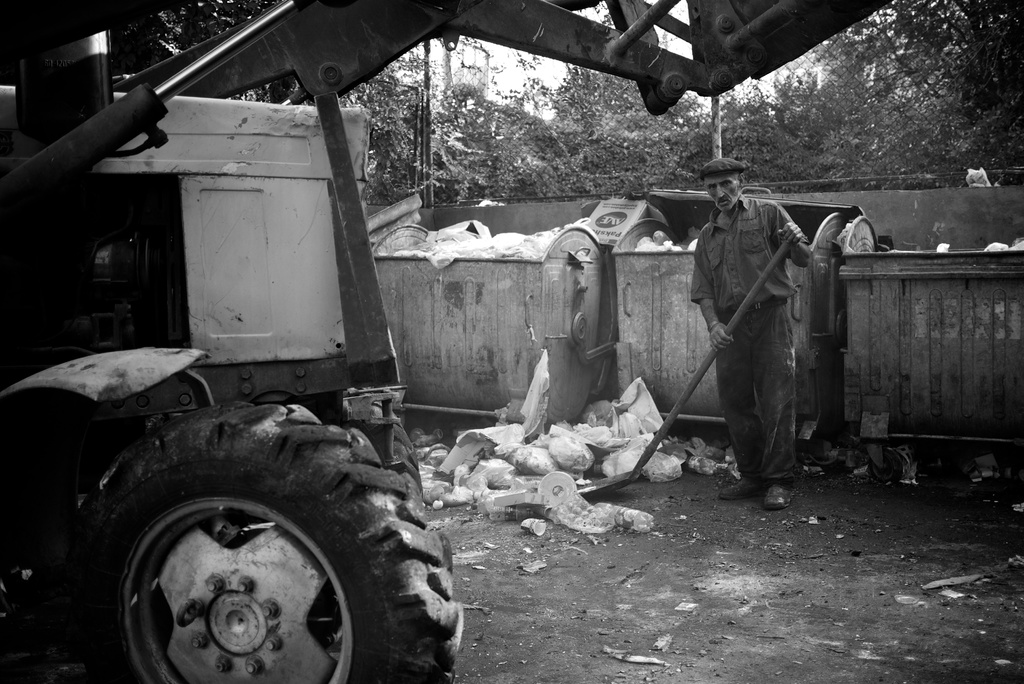Wheel: (73, 412, 422, 675), (347, 395, 426, 489)
